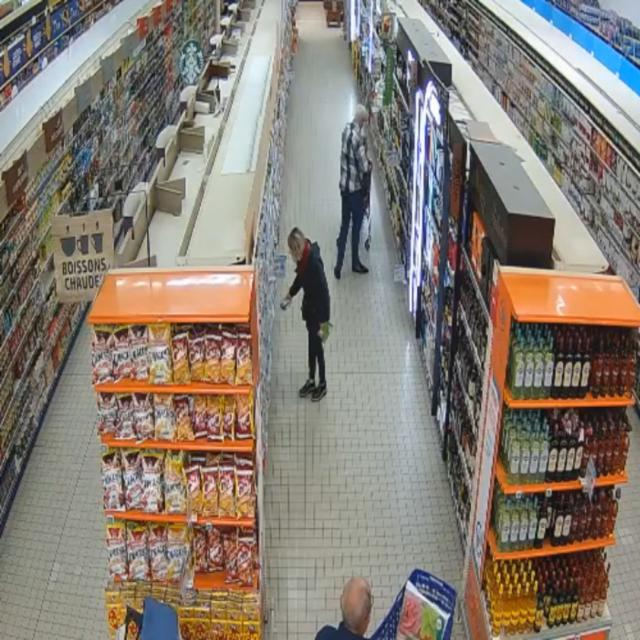article: (317, 321, 333, 343), (279, 299, 291, 311)
bags: (361, 170, 371, 201)
hands: (282, 293, 292, 303)
person: (286, 228, 329, 401), (334, 105, 371, 279), (316, 578, 372, 639)
